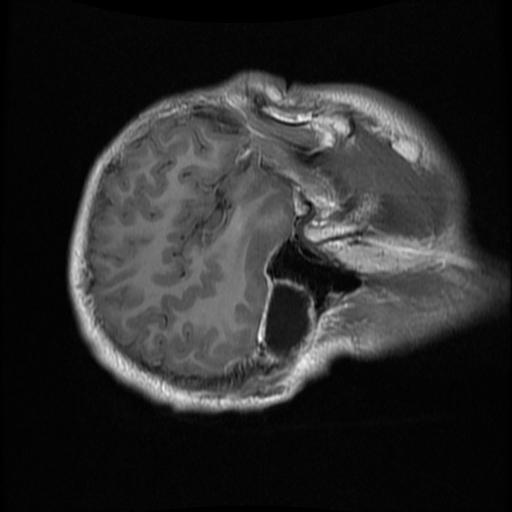glioma: (267, 280, 311, 359)
